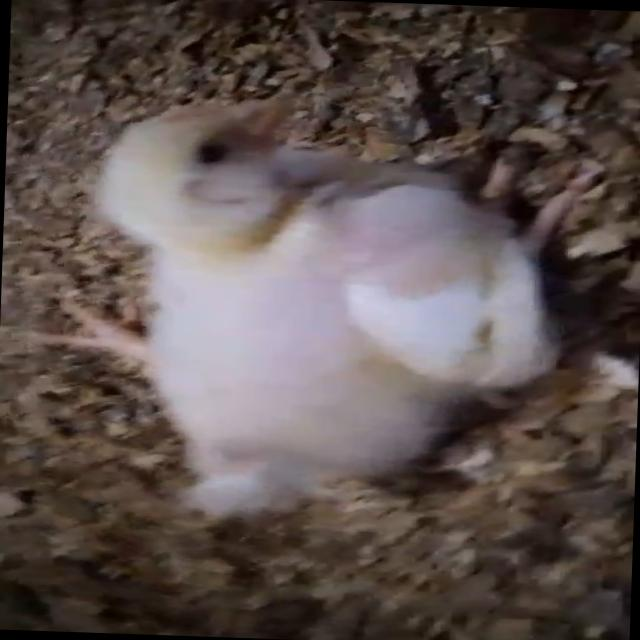abnormal chicken: (15, 84, 640, 572)
